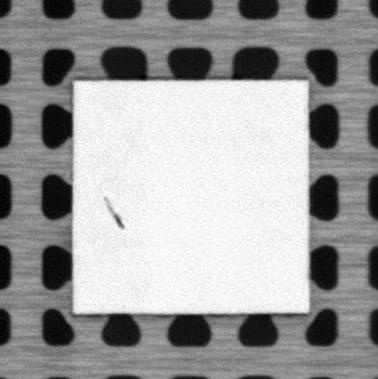DIE_INK: (101, 196, 125, 230)
